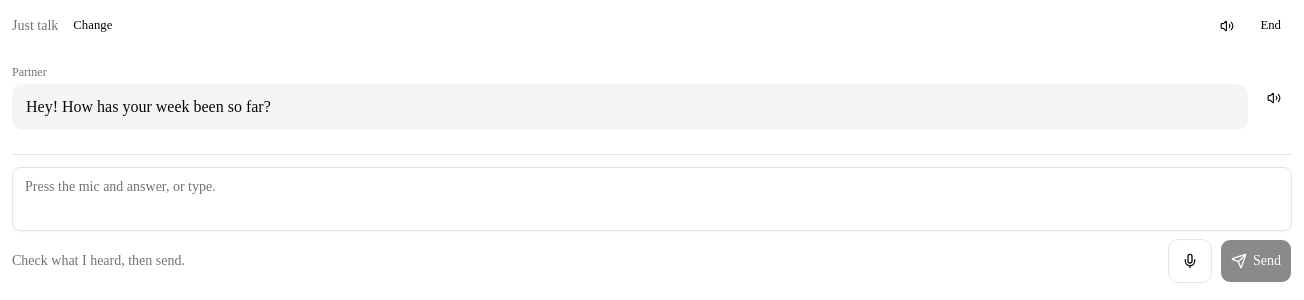
Test case: TalkPanel › puts a dictated answer in the box to check, rather than sending it
What coordinates should you click on to do the following:
click the button with test id "change"
I would click on:
 (93, 26)
Its box is [62,12,123,40].
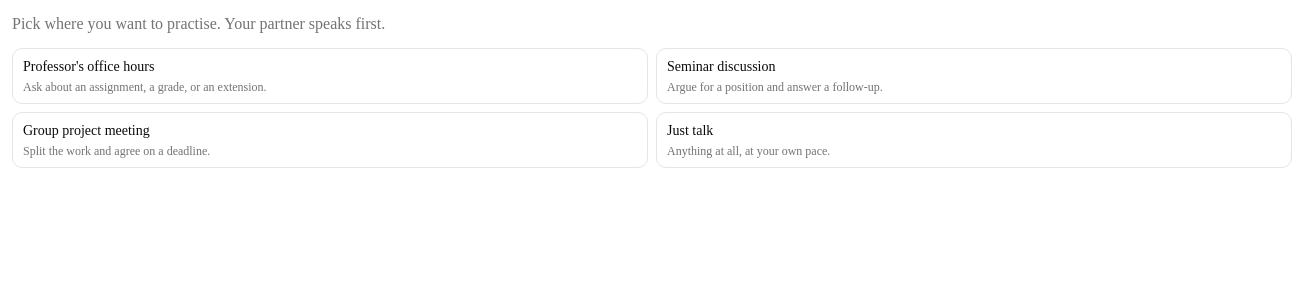
What coordinates should you click on to do the following:
click the button with test id "scenario-office-hours"
I would click on:
 (89, 66)
Its box is [12,48,648,104].
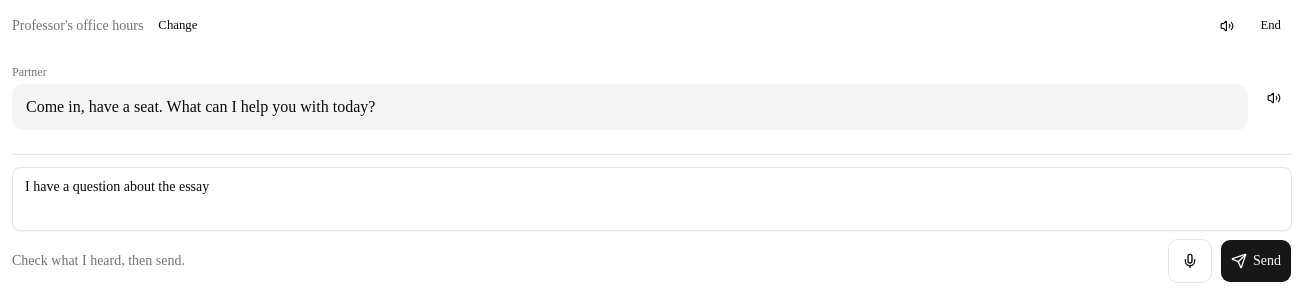
Check: the text box with test id "answer" holds "I have a question about the essay", box [12,167,1292,231]
